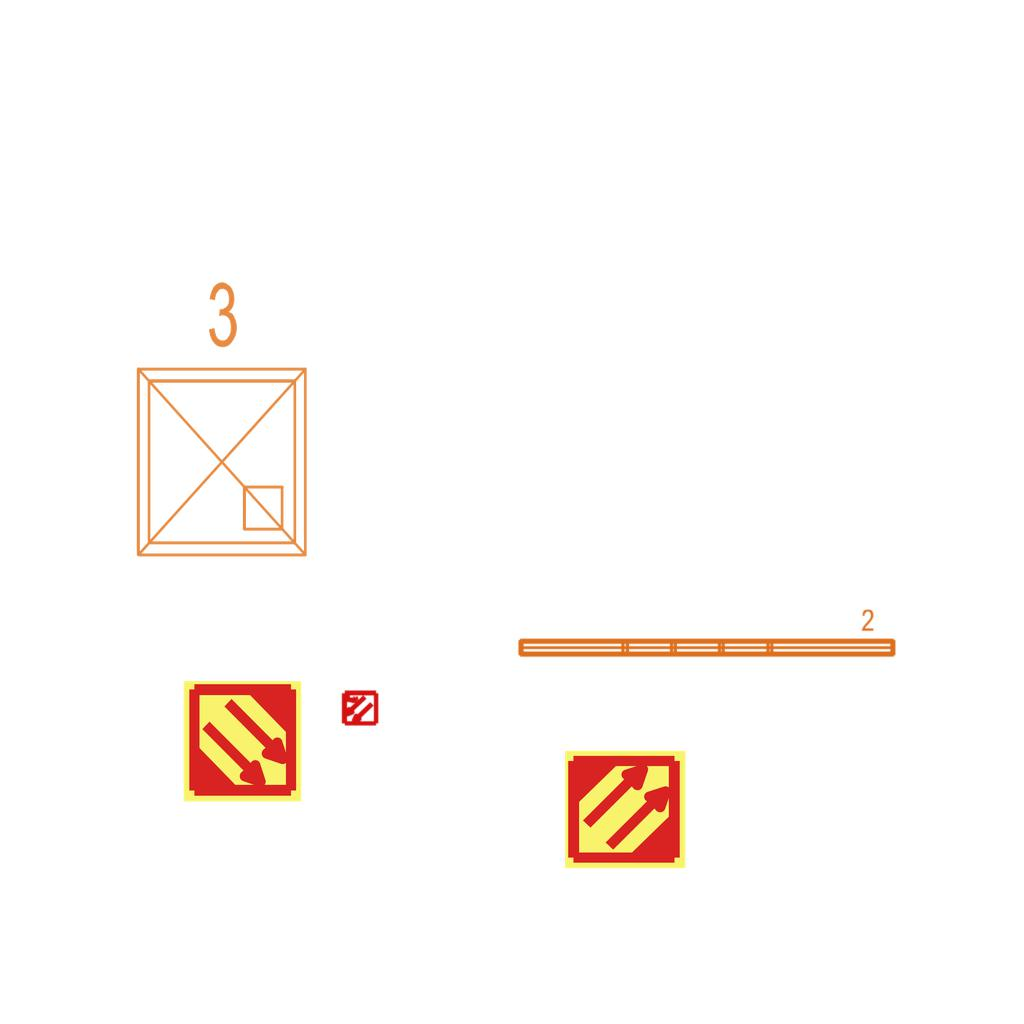ASR_Ansaugrauchmelder: (563, 747, 688, 872), (180, 679, 305, 804)
Ambulanz_Pendelleuchte_LED: (513, 607, 900, 663)
Einbaudownlights_LED_Konferenzraeume: (114, 271, 322, 571)
OT_Multisensormelder_(Kombination_RMO_WMD): (331, 680, 387, 736)
